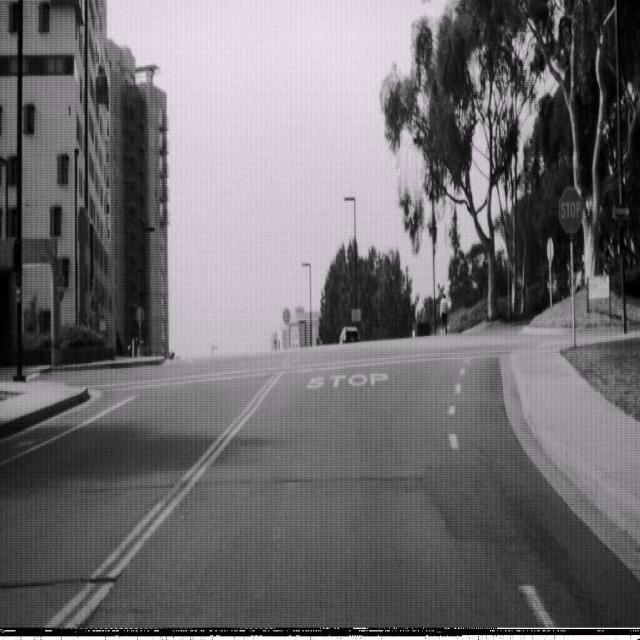stop: (558, 185, 583, 234)
